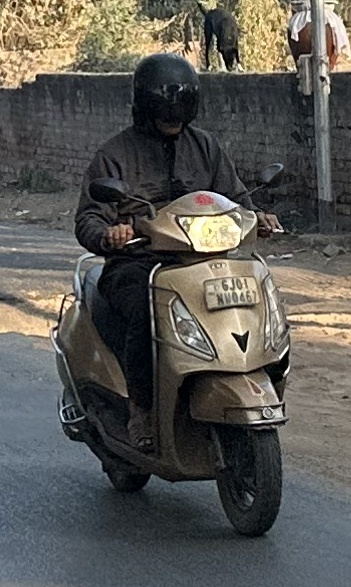BikeWithRider: (41, 45, 305, 543)
Helmet: (120, 46, 208, 144)
